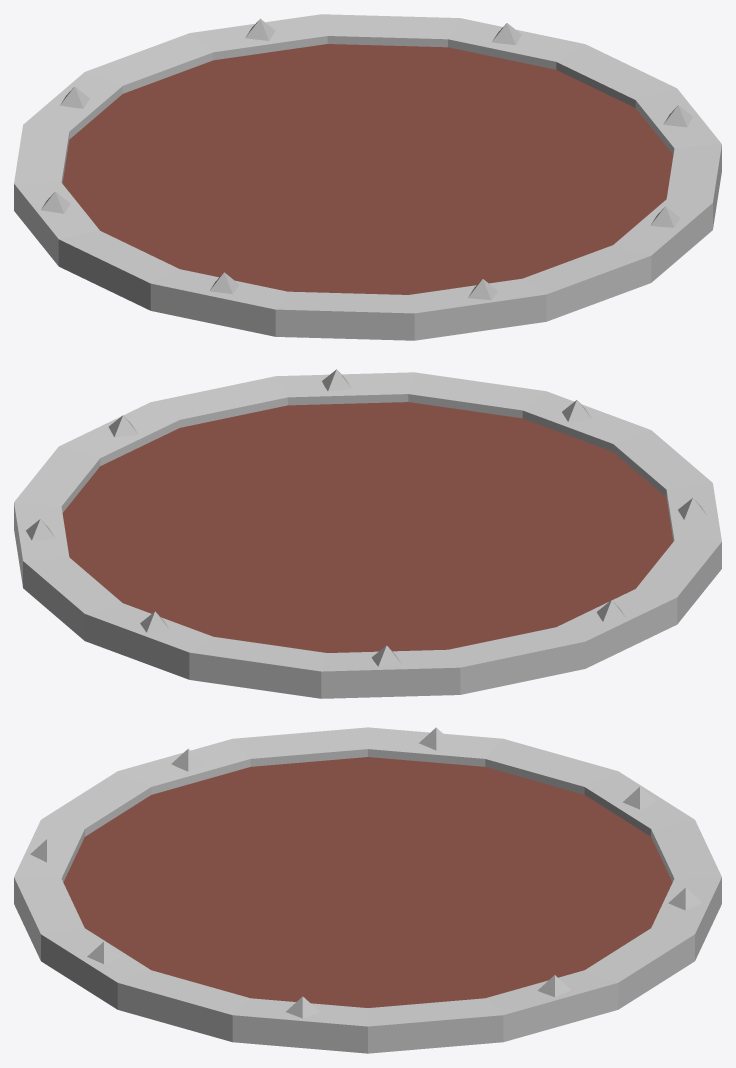
Rendered from Shield_1_b_r.fbx.
3 renders of one model, top to bottom at view 1: azimuth 30°, elevation 25°; view 2: azimuth 150°, elevation 25°; view 3: azimuth 270°, elevation 25°, orthographic.
Visible parts, largest first — view 1: Circle.093, Circle.094; view 2: Circle.093, Circle.094; view 3: Circle.093, Circle.094.
Part boxes in pixels (x1,y1,x2,y2): Circle.093: [62, 44, 673, 294]; Circle.094: [14, 14, 721, 340]; Circle.093: [62, 402, 673, 652]; Circle.094: [14, 372, 721, 698]; Circle.093: [63, 757, 672, 1007]; Circle.094: [14, 727, 721, 1053].
Size of the model in its own units: 80.85 by 16.22 by 80.85.
